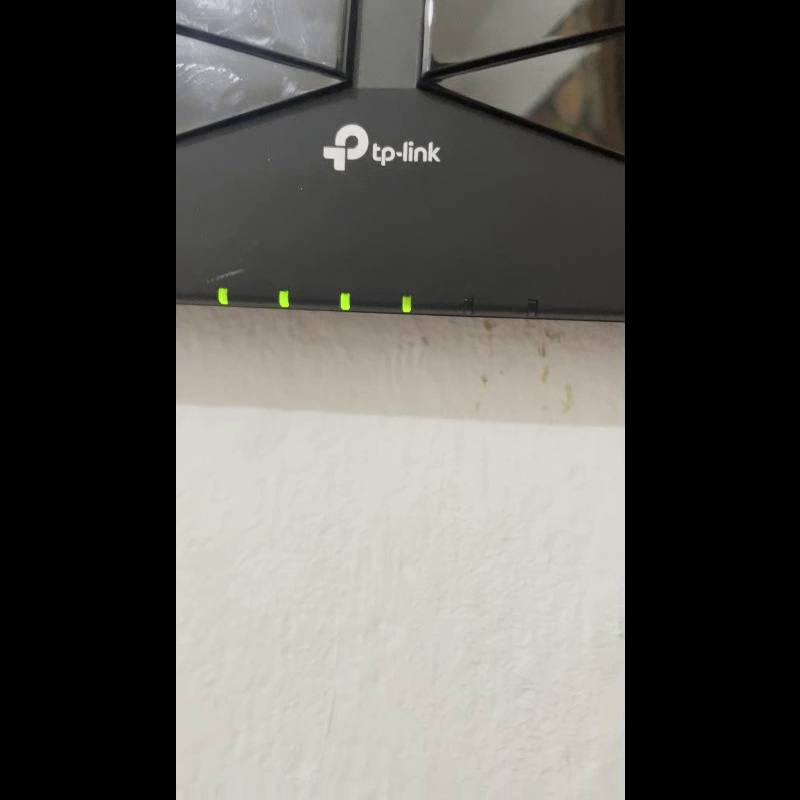off: (525, 299, 537, 315), (462, 296, 472, 314)
on_green: (217, 287, 228, 304), (401, 294, 411, 312), (340, 292, 350, 310), (278, 290, 289, 306)
